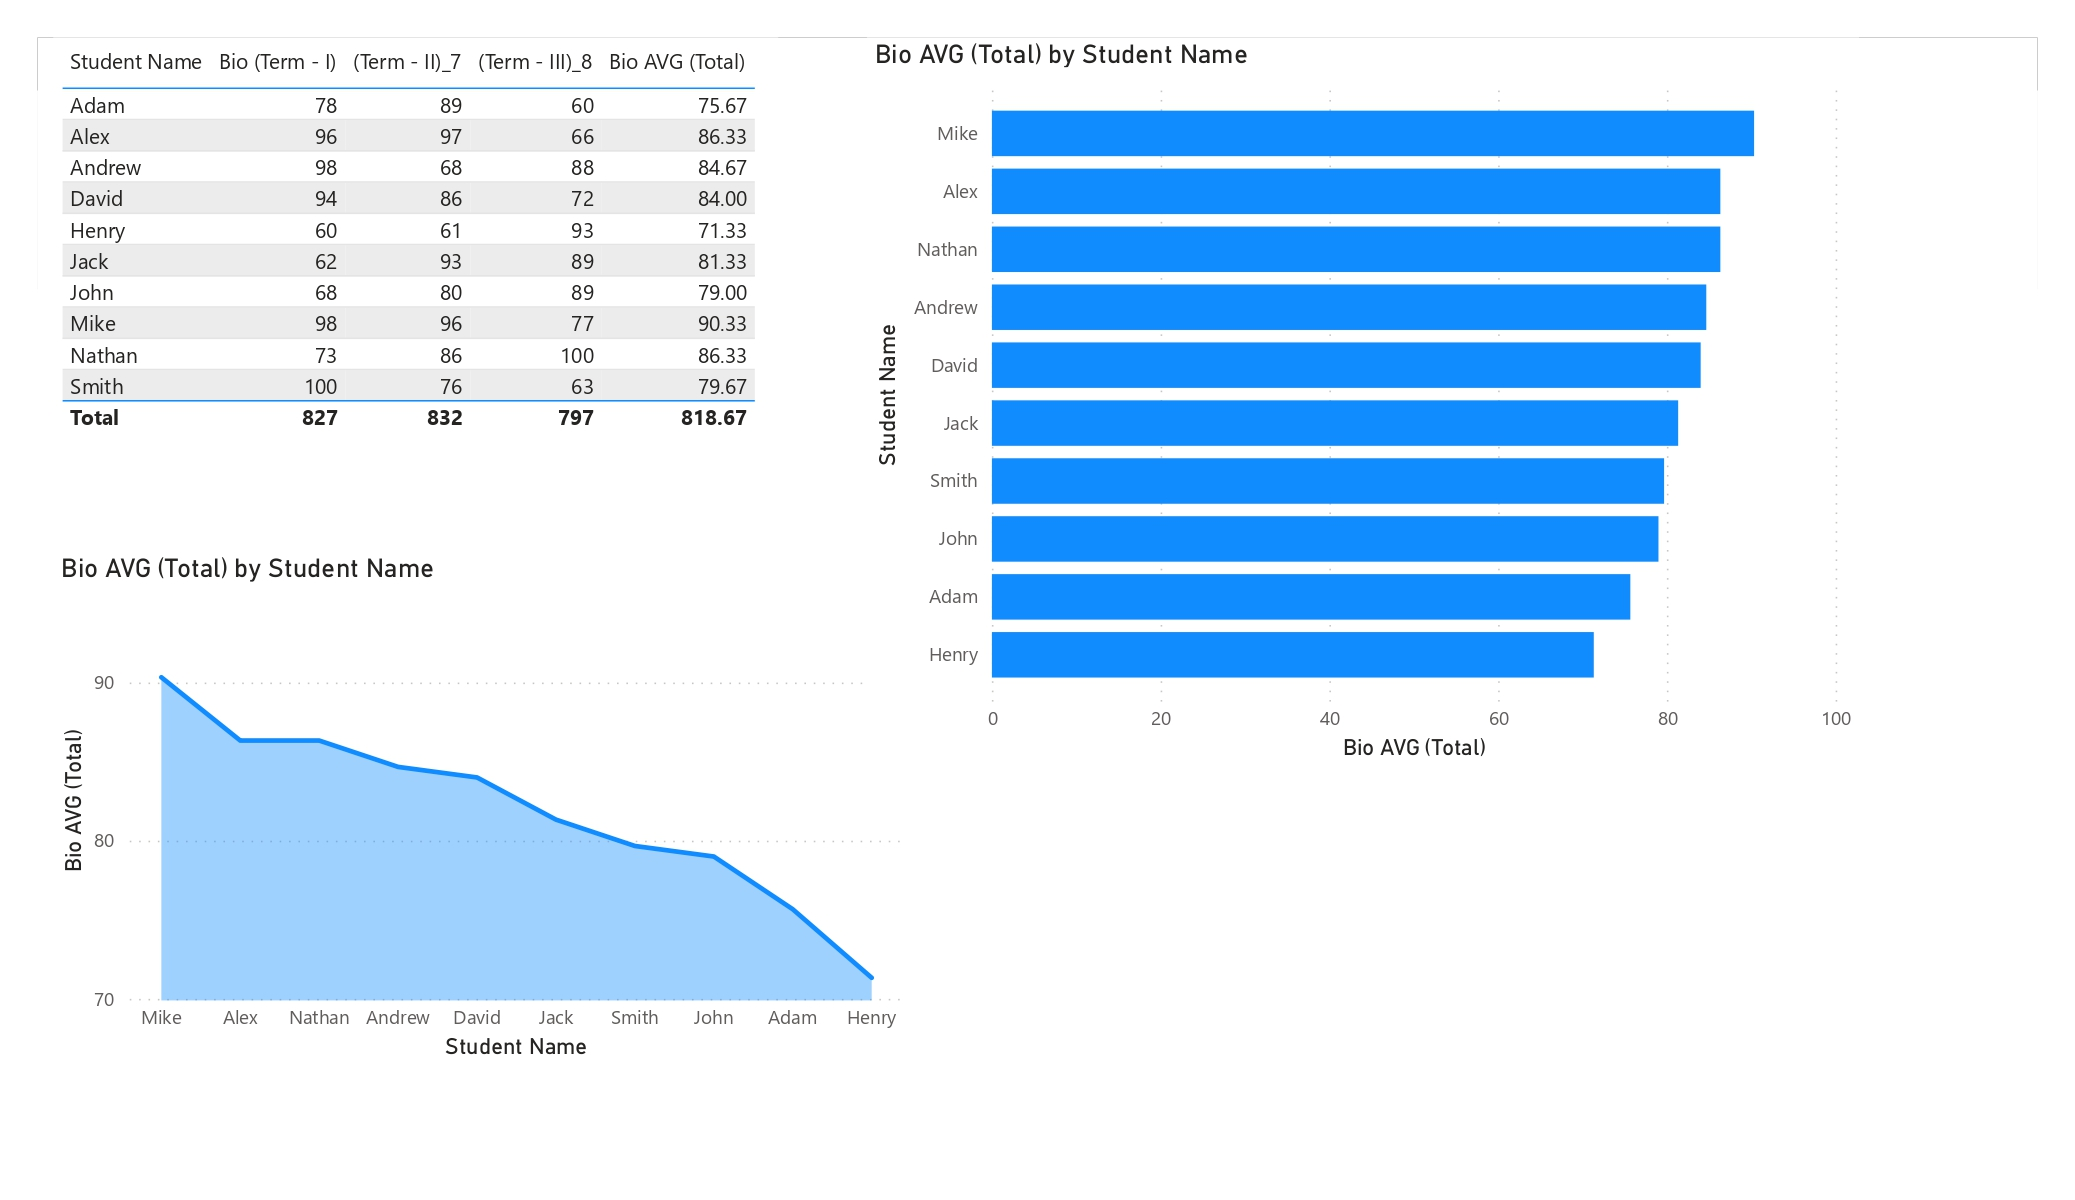

This screenshot's page, from the dashboard's own definition file:
{"tool":"powerbi","page":{"name":"Exam Report for Biology ","canvas":[1280,720],"ordinal":4},"visuals":[{"type":"tableEx","fields":{"Values":["student report.Student Name","Sum(student report.Bio      (Term - I))","Sum(student report.(Term - II)_7)","Sum(student report.(Term - III)_8)","Sum(student report.Bio  AVG (Total))"]},"box":[10.1,0,463.6,319.2],"z":0},{"type":"stackedAreaChart","fields":{"Category":["student report.Student Name"],"Y":["Sum(student report.Bio  AVG (Total))"]},"box":[10.1,329.2,549.3,329.2],"z":1},{"type":"barChart","fields":{"Category":["student report.Student Name"],"Y":["Sum(student report.Bio  AVG (Total))"]},"box":[530.8,0,635,467],"z":2}]}

Visuals, with their boxes on the page's 1280x720 design canvas (x1, y1, x2, y2). These are canvas units, not pixel positions in the 2075x1200 screenshot, which may show the page scaled, cropped or inside an application window:
tableEx - student report.Student Name x Sum(student report.Bio      (Term - I)): left=10, top=0, right=474, bottom=319
stackedAreaChart - student report.Student Name x Sum(student report.Bio  AVG (Total)): left=10, top=329, right=559, bottom=658
barChart - student report.Student Name x Sum(student report.Bio  AVG (Total)): left=531, top=0, right=1166, bottom=467
